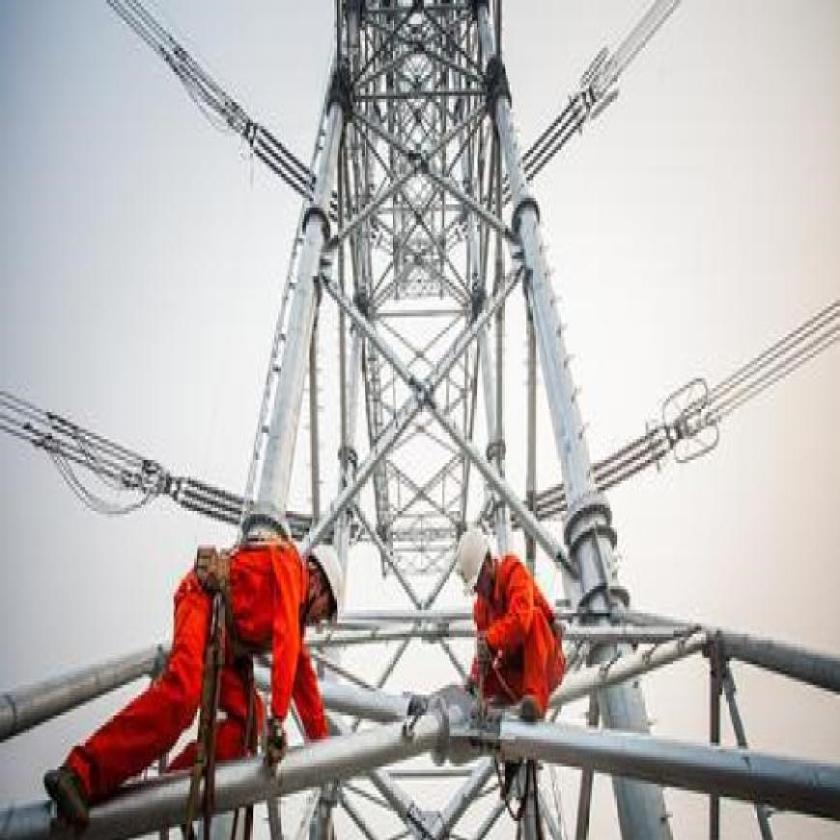Con_casco: (304, 539, 344, 633), (449, 526, 488, 609)
